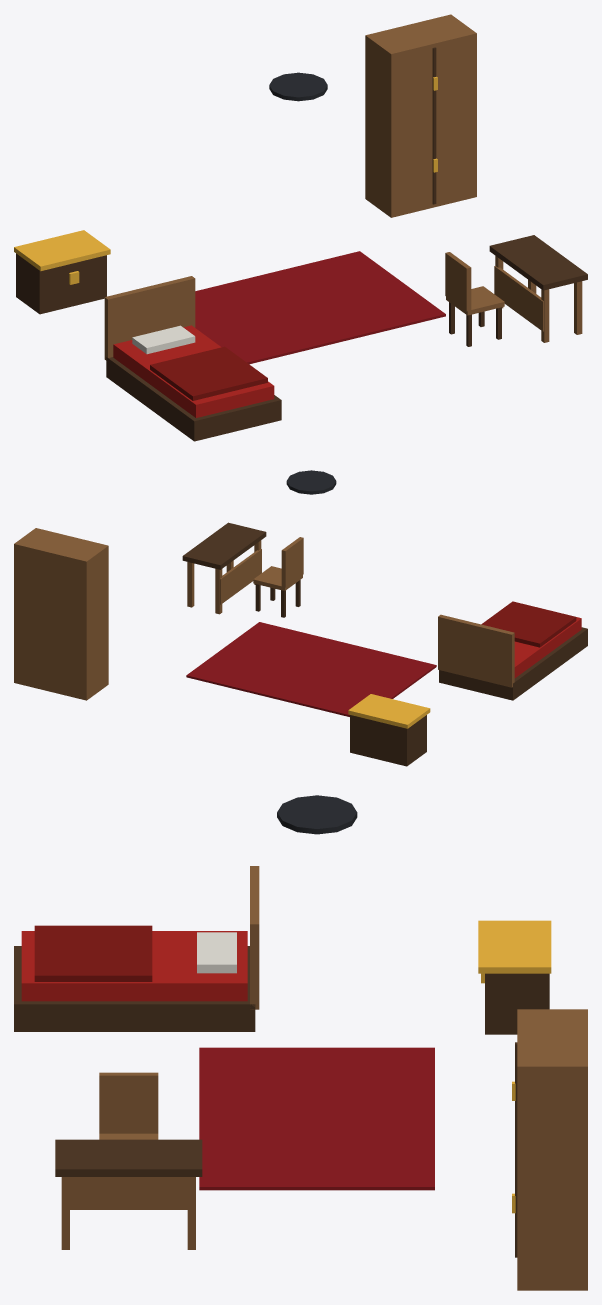
Rendered from SM_Interior_slifer_jaden_room_Props.fbx.
3 views of the same model, one above another, from view 1: azimuth 30°, elevation 25°; view 2: azimuth 150°, elevation 25°; view 3: azimuth 270°, elevation 25° (orthographic). The views are drawn at different scales.
Visible parts, largest first — view 1: SM_Interior_slifer_jaden_room_Props; view 2: SM_Interior_slifer_jaden_room_Props; view 3: SM_Interior_slifer_jaden_room_Props.
Part boxes in pixels (x1,y1,x2,y2): SM_Interior_slifer_jaden_room_Props: (14,14,587,441); SM_Interior_slifer_jaden_room_Props: (14,470,587,766); SM_Interior_slifer_jaden_room_Props: (14,795,587,1290).
Size of the model in its own units: 6.26 by 2.91 by 4.88.
